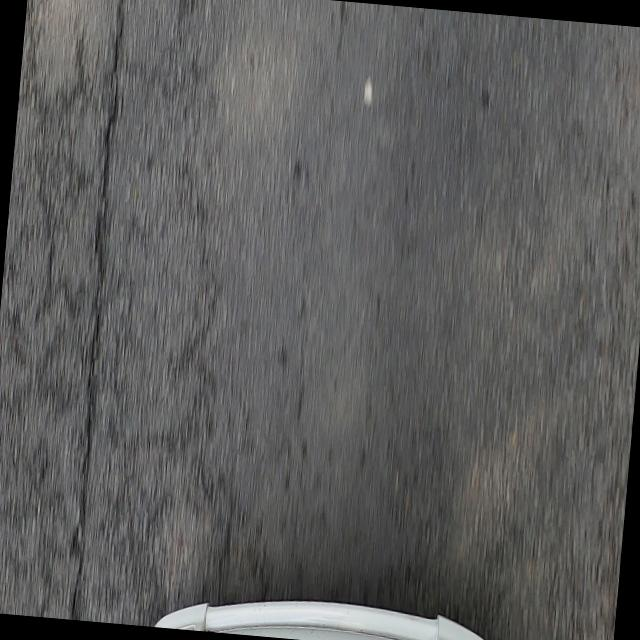Retak-Memanjang: (62, 0, 125, 618), (43, 487, 57, 608)
